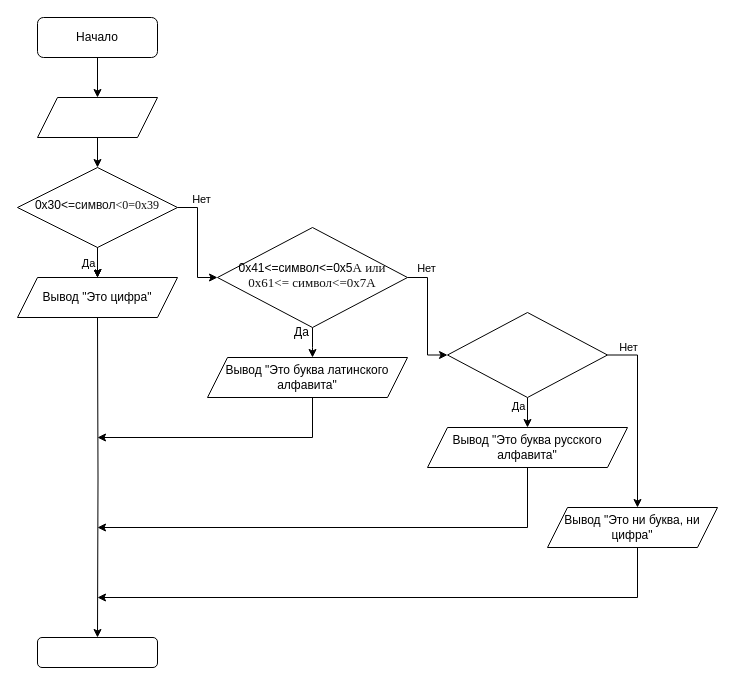
The diagram is 735 pixels wide and 685 high, and some of its shapes have lost their labels. The box of each missing label's shape, as (x1, y1, x2, y2) in pixels:
0 х C 0 <=символ<0=0 х FF: (446, 312, 608, 398)
Ввод символ: (36, 96, 158, 138)
Конец: (36, 636, 158, 668)
